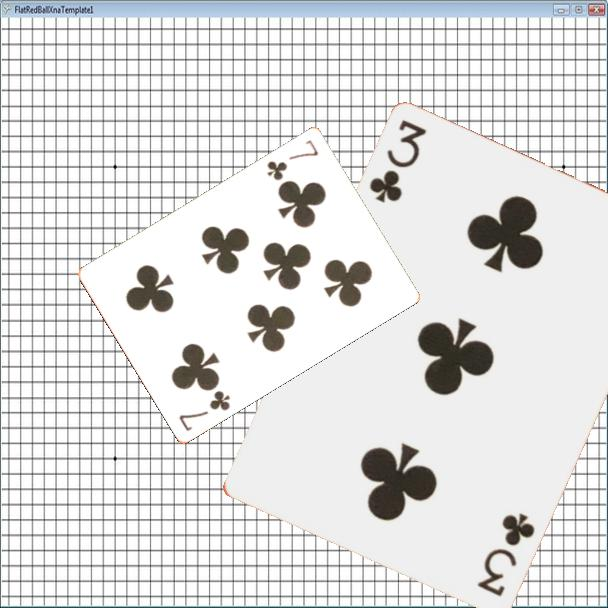c03: (473, 509, 538, 600), (365, 117, 430, 207)
c07: (175, 386, 234, 434), (263, 136, 321, 183)
